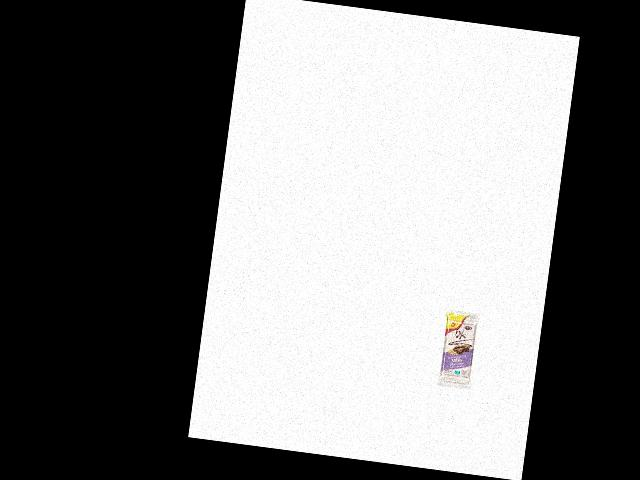chocolate: (434, 307, 483, 391)
